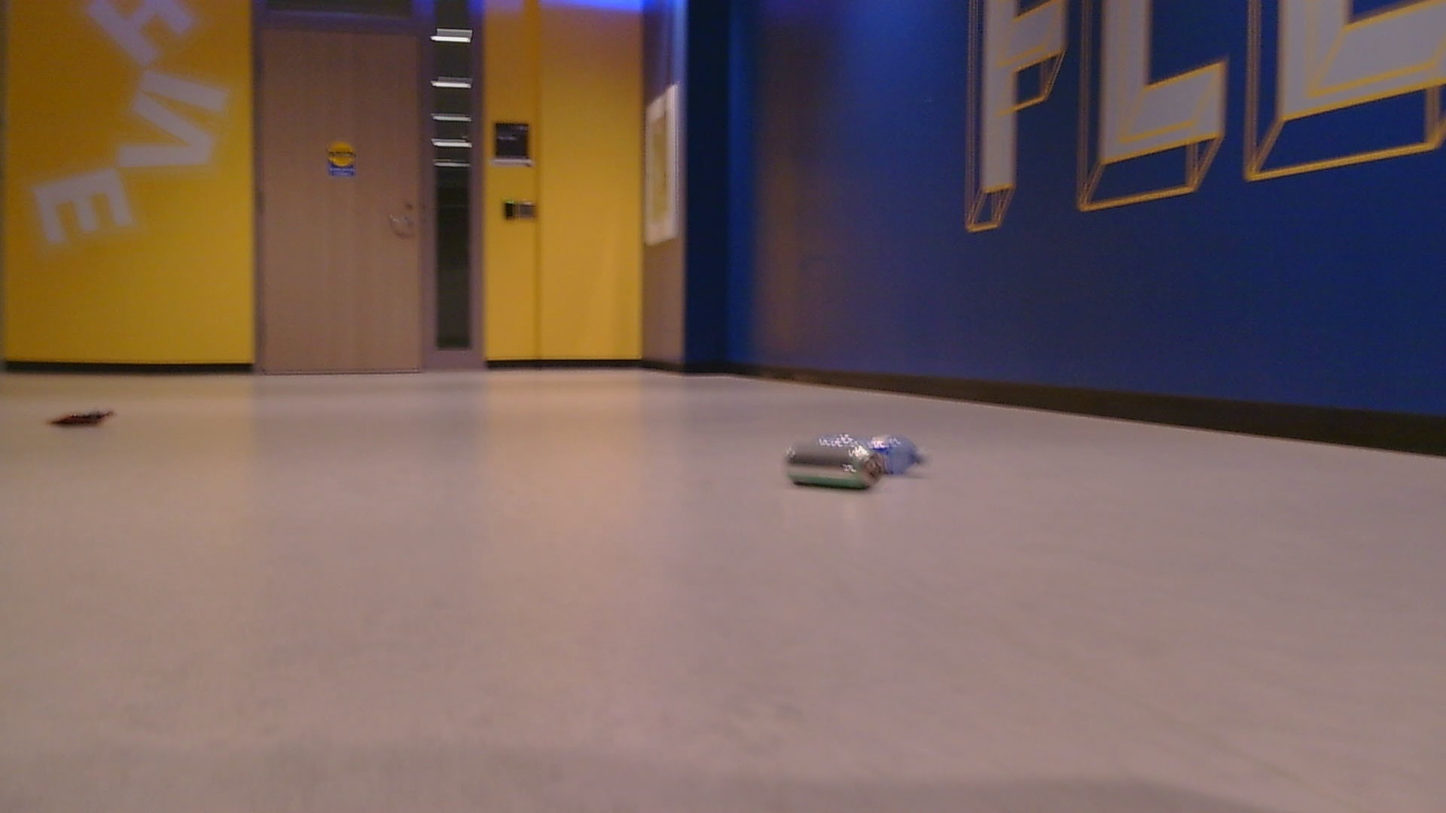can: (782, 432, 932, 492), (45, 404, 115, 428)
